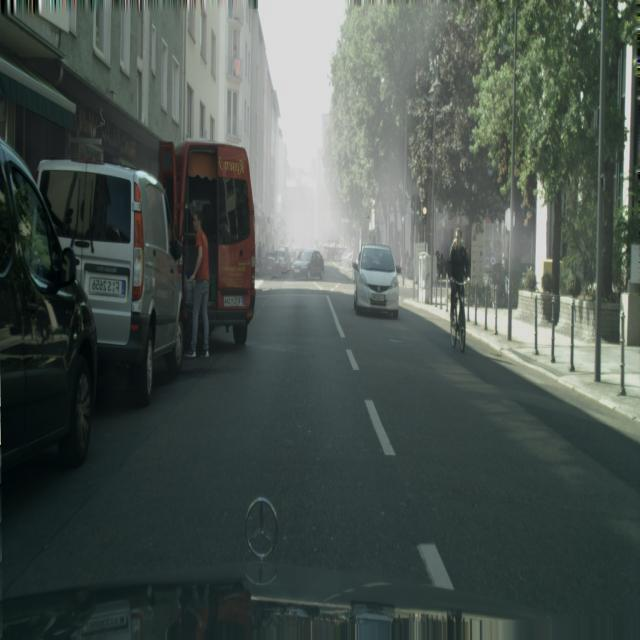car: (445, 224, 471, 352)
person: (187, 211, 211, 357)
rider: (159, 140, 257, 346), (160, 141, 256, 346)
truck: (35, 157, 185, 408), (0, 138, 99, 482), (352, 243, 399, 319), (291, 249, 325, 281), (266, 249, 291, 277), (272, 247, 291, 276)
